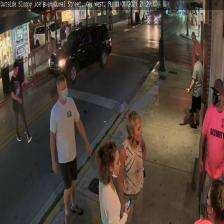person: (49, 74, 92, 222), (198, 78, 223, 219), (119, 111, 146, 224), (95, 142, 130, 224), (10, 62, 33, 143), (194, 180, 224, 224)
